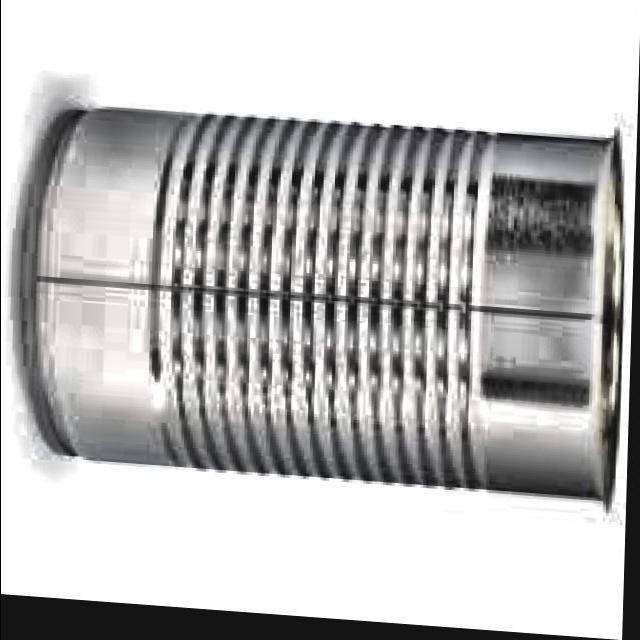Aluminum Can: (14, 86, 637, 517)
